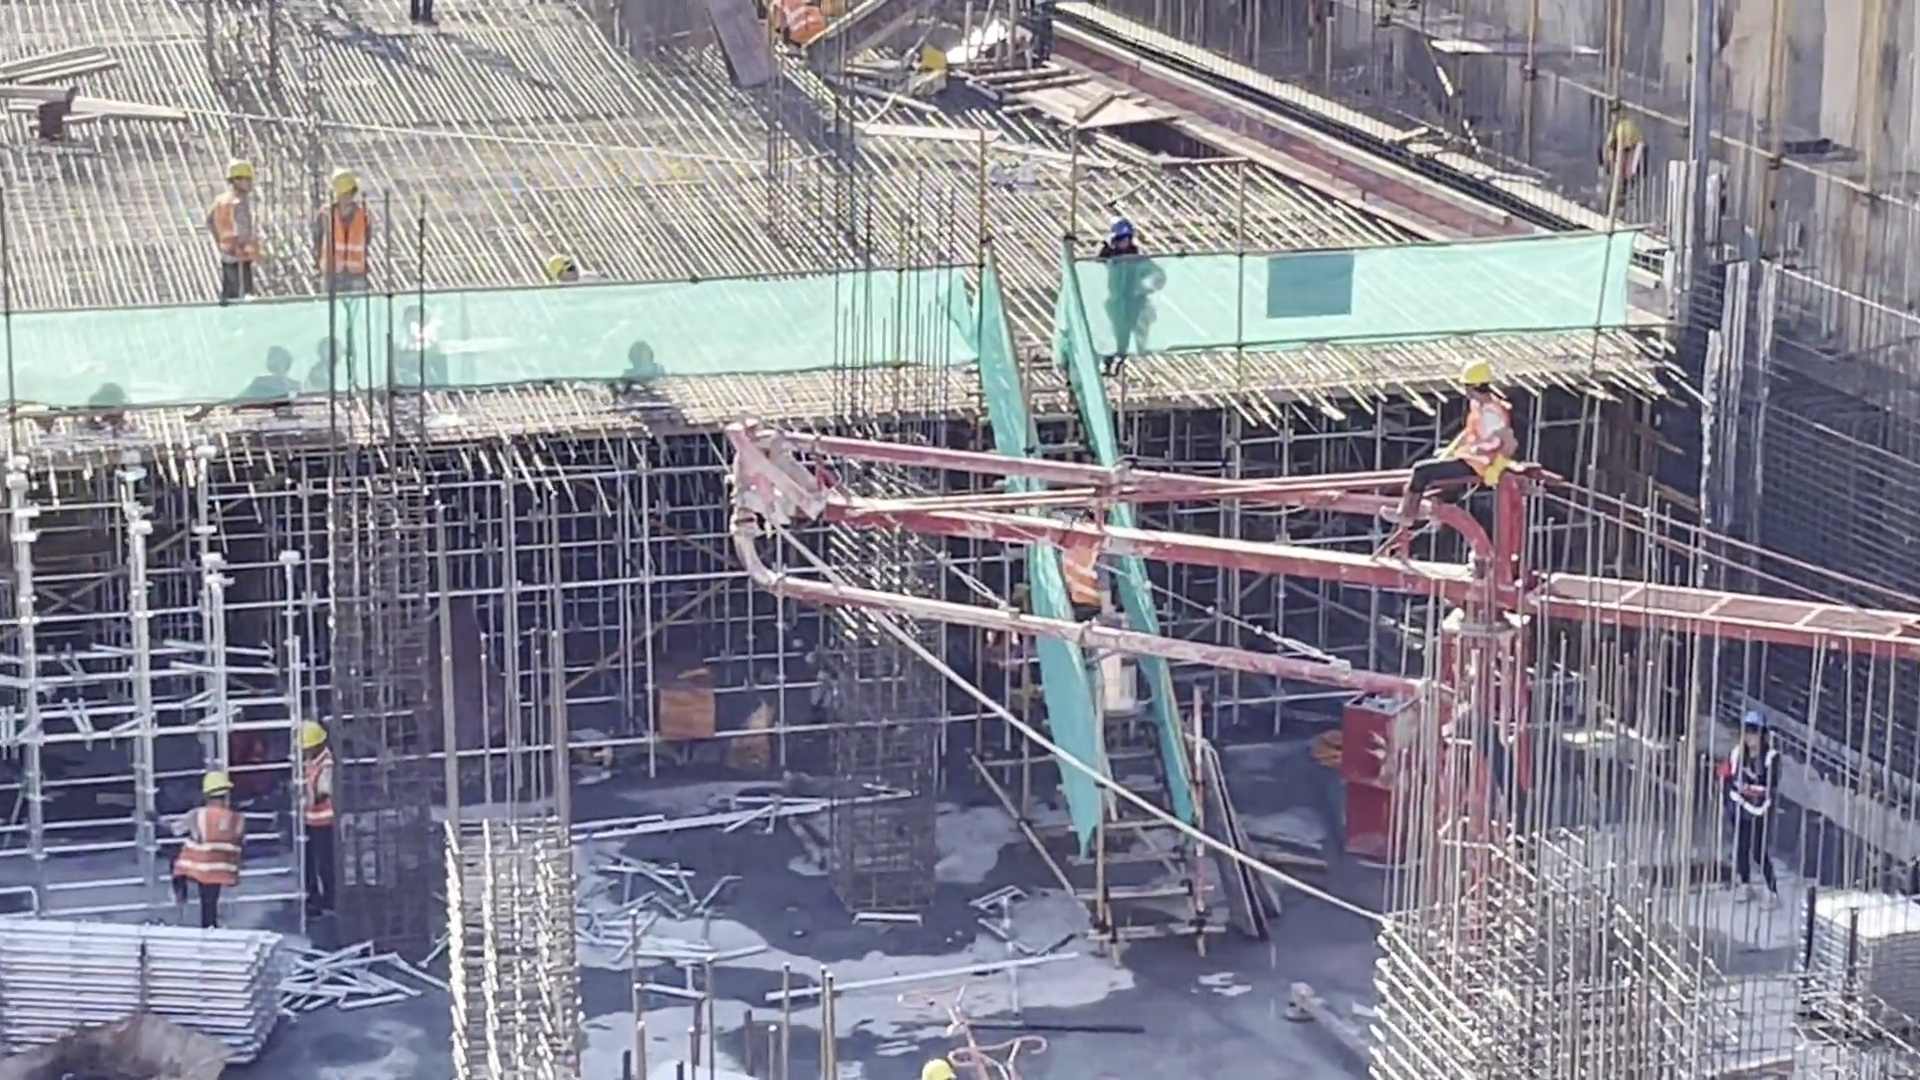helmet: (201, 760, 248, 813), (1459, 349, 1507, 397), (284, 715, 337, 754), (1611, 111, 1647, 163), (319, 165, 362, 204), (223, 156, 260, 197), (1104, 216, 1136, 256), (1744, 704, 1773, 743)
person: (1404, 365, 1558, 579), (299, 163, 389, 369), (156, 757, 260, 934), (278, 711, 373, 898), (1704, 698, 1789, 898), (1100, 209, 1182, 404), (197, 154, 271, 337), (1055, 457, 1106, 700), (780, 1, 866, 78)
vest: (166, 810, 244, 898), (314, 201, 382, 287), (1456, 402, 1518, 478), (1056, 522, 1104, 617), (210, 199, 266, 275), (286, 749, 338, 830), (1732, 741, 1777, 817), (785, 1, 838, 46)
